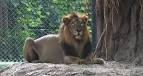lion: (23, 14, 90, 66)
